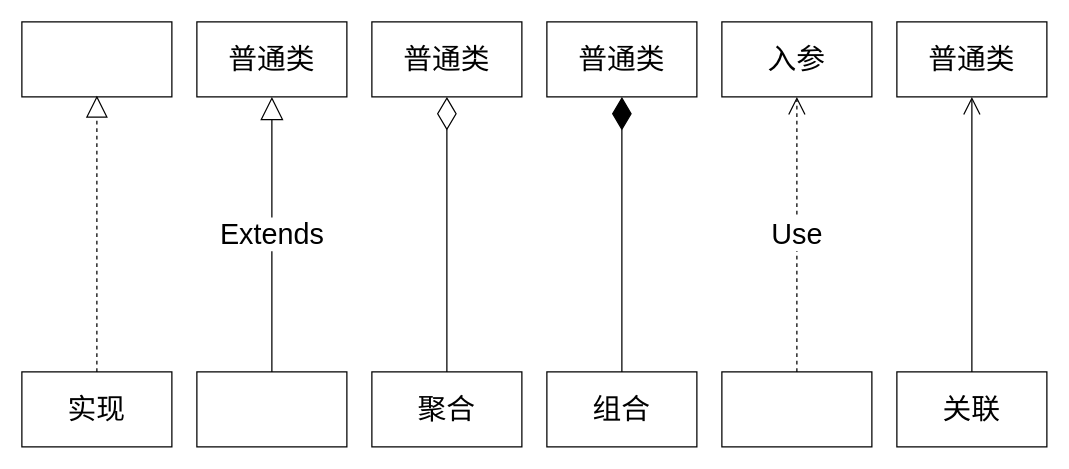
The diagram is 1069 pixels wide and 469 high, and some of its shapes have lost their labels. The centre of each missing label's shape, as x and y in pixels:
"依赖" belongs at (796,409).
"接口/抽象" belongs at (96,59).
"继承" belongs at (271,409).
